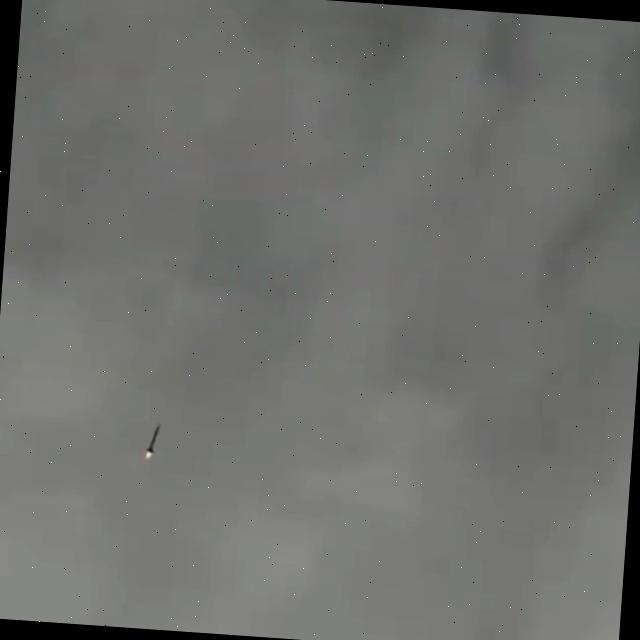rocket: (142, 424, 158, 459)
